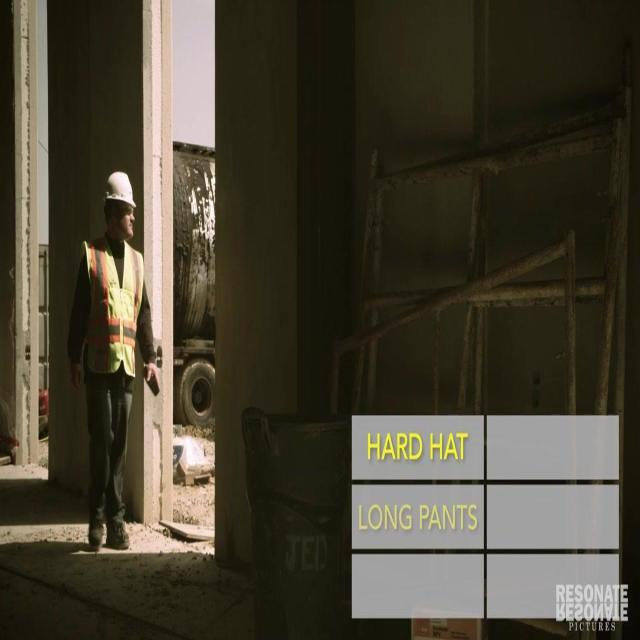Vest: (82, 240, 143, 378)
